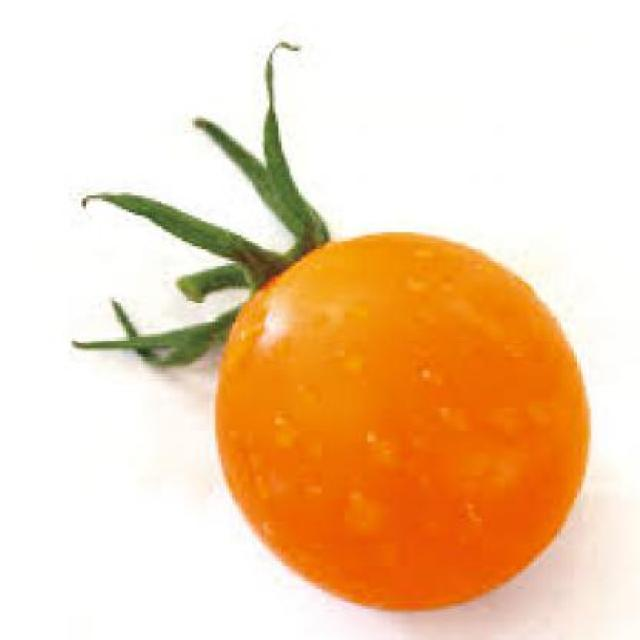sari: (194, 202, 590, 615)
